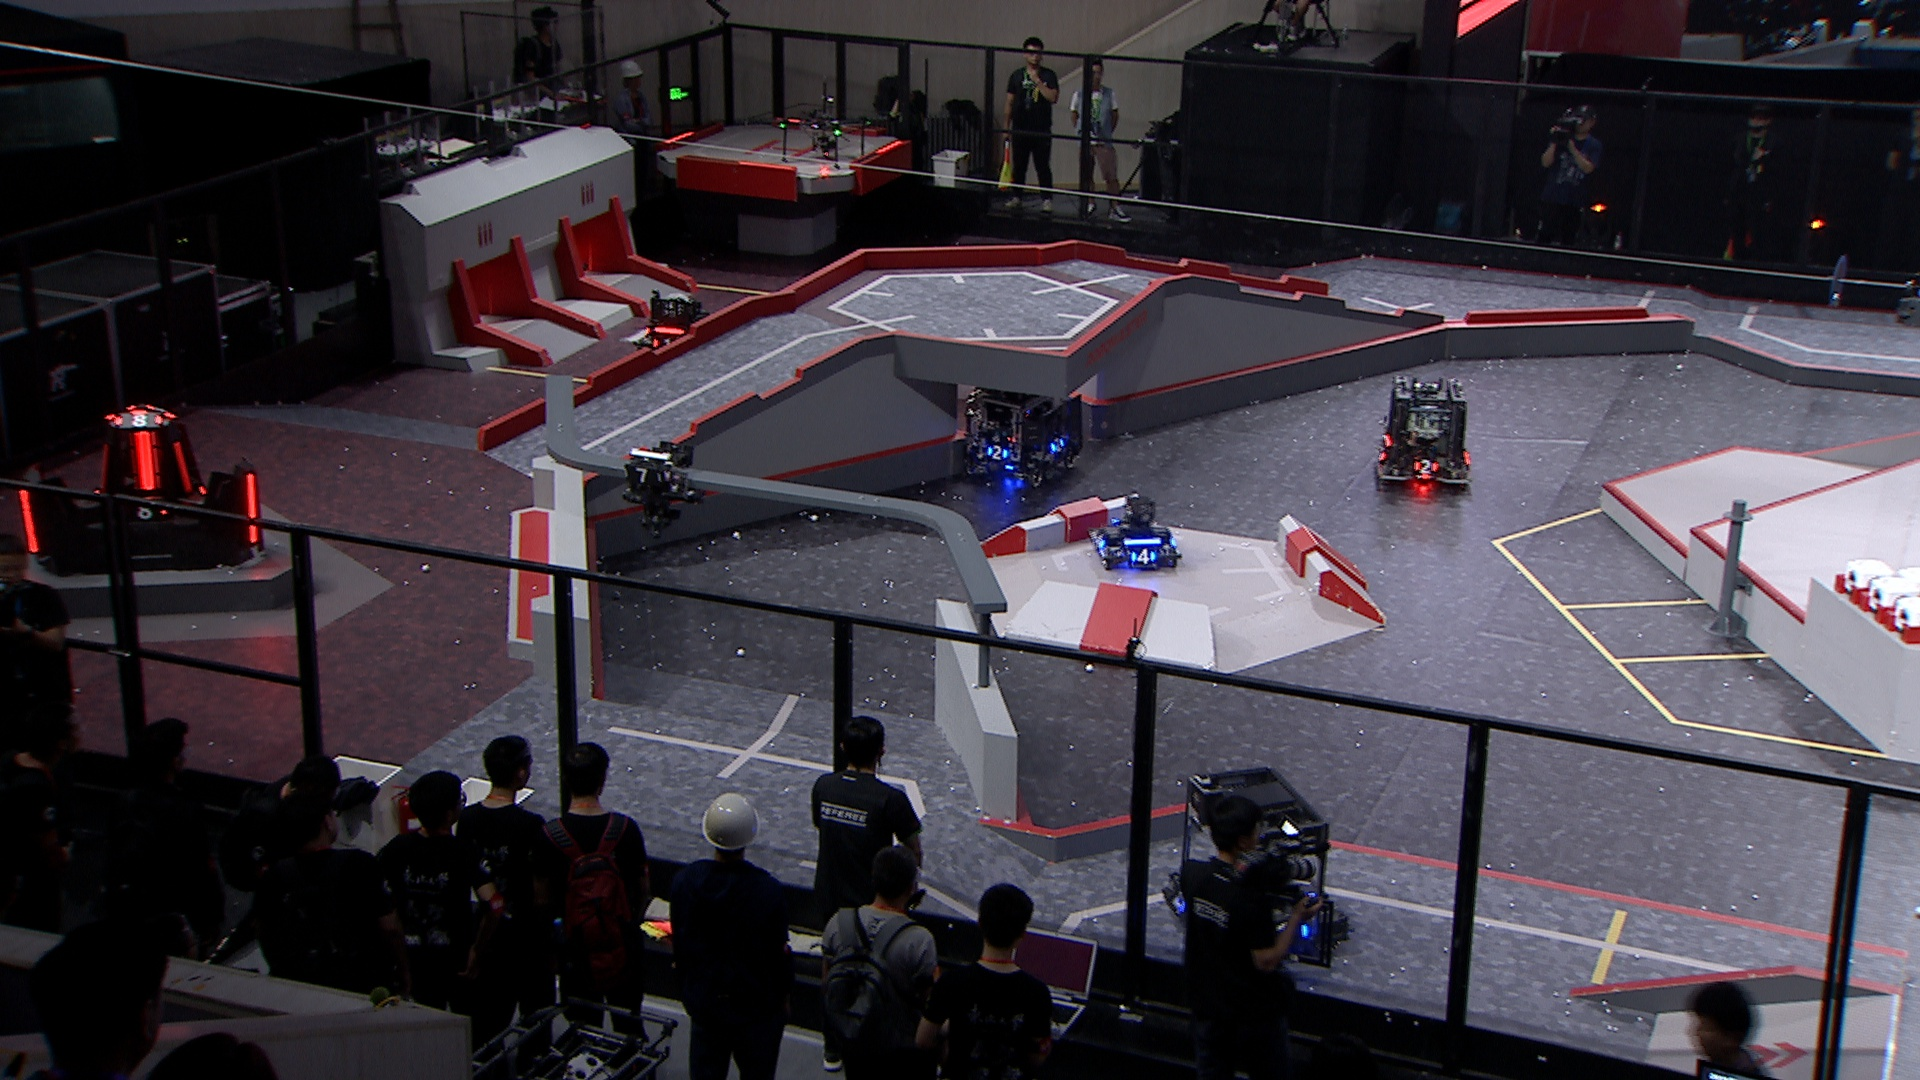armor: (131, 429, 162, 495), (16, 488, 44, 556), (243, 471, 261, 545), (171, 439, 193, 495), (111, 411, 166, 431), (95, 439, 111, 495), (622, 465, 662, 485), (131, 504, 169, 522), (1288, 878, 1321, 899), (1129, 549, 1158, 566), (986, 443, 1011, 463), (1046, 434, 1067, 456), (1414, 458, 1437, 476), (1088, 533, 1109, 551), (1373, 446, 1391, 465), (650, 335, 673, 349)
base: (13, 406, 266, 576)
car: (1159, 770, 1352, 953), (957, 380, 1087, 493), (1370, 375, 1474, 491), (632, 289, 727, 371), (1087, 493, 1182, 571)
watcher: (621, 439, 700, 527)
